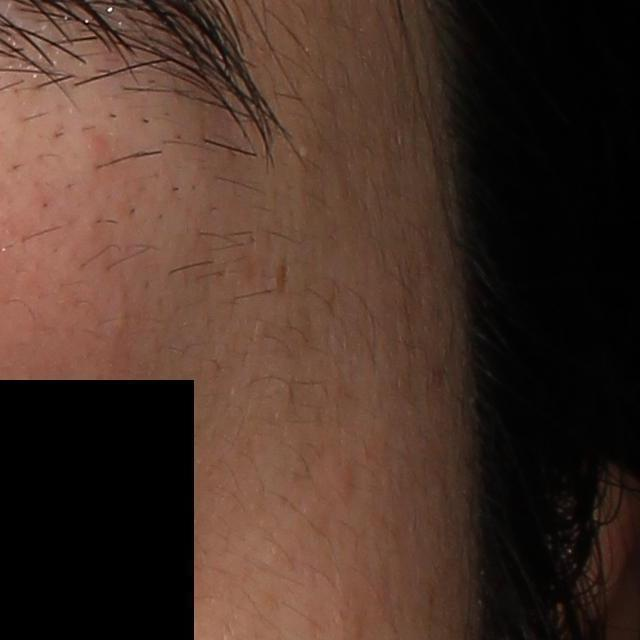melasma: (273, 261, 289, 294)
